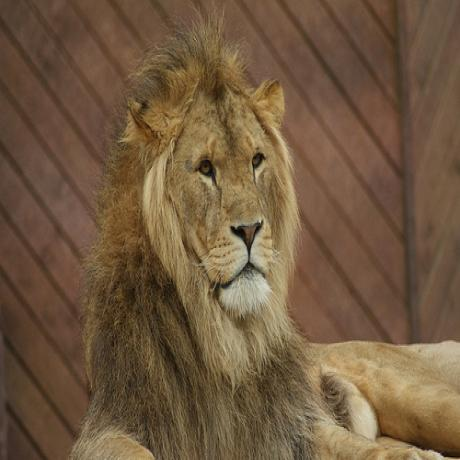Lion: (72, 18, 460, 458)
